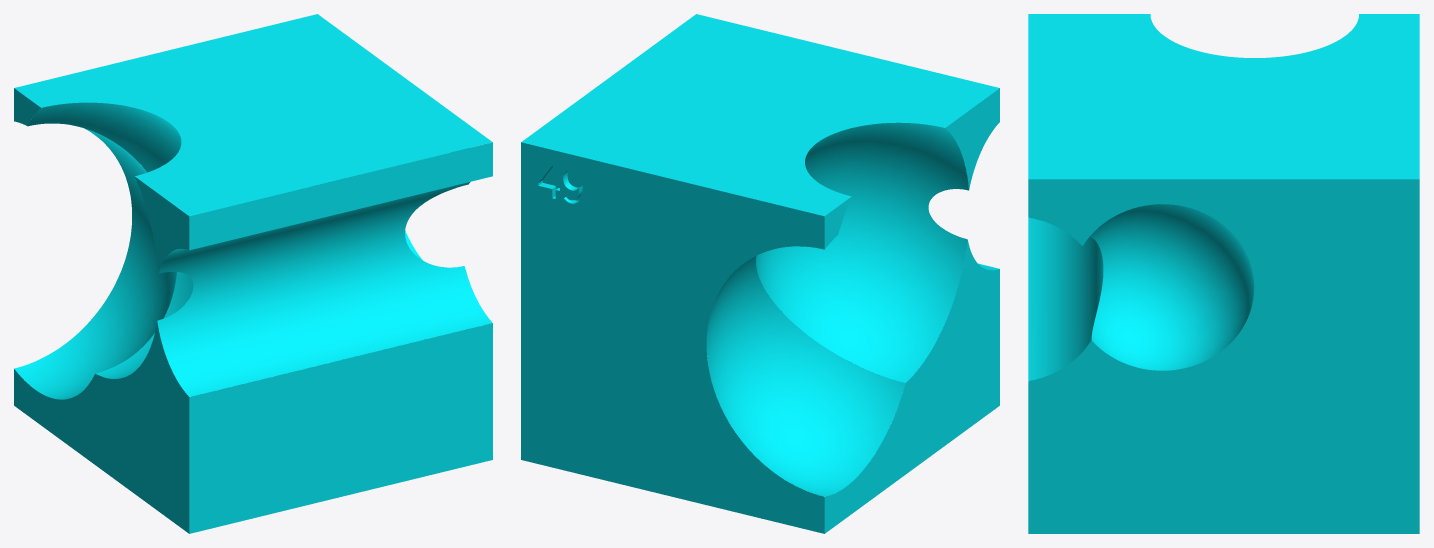
The picture shows the model from 3 angles, left to right: view 1: azimuth 30°, elevation 25°; view 2: azimuth 150°, elevation 25°; view 3: azimuth 270°, elevation 25°; orthographic projection. The views are drawn at different scales.
Visible parts, largest first — view 1: 70_vars_w-txt; view 2: 70_vars_w-txt; view 3: 70_vars_w-txt.
Part boxes in pixels (x1,y1,x2,y2): 70_vars_w-txt: (14,14,492,533); 70_vars_w-txt: (521,14,999,533); 70_vars_w-txt: (1028,14,1419,533).
Bounding box in the file's own units: 0.042 × 0.042 × 0.042.
